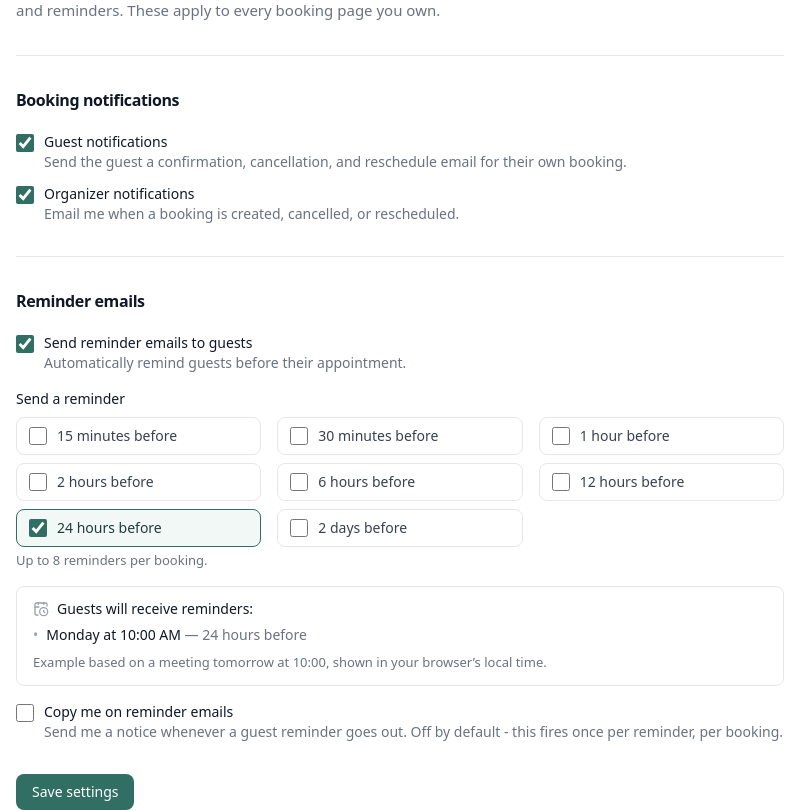
Test case: NotificationSettingsPage › reports a failed save instead of silently doing nothing
(page scrolled)
What coordinates should you click on to do the following:
click the button "Save settings"
I would click on:
 (75, 792)
Its box is x1=16 y1=774 x2=134 y2=809.
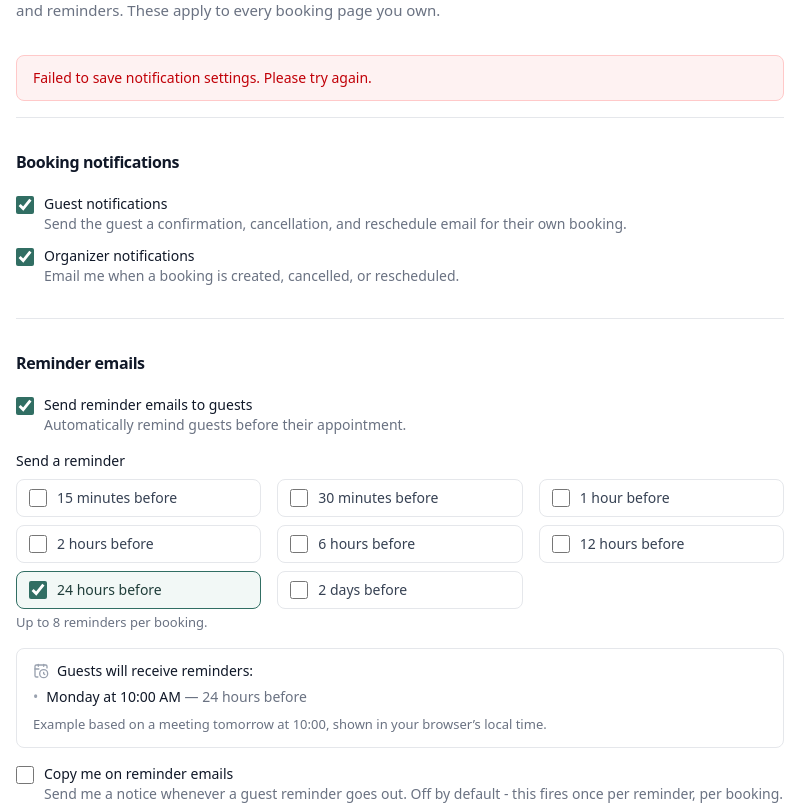
Expected: the text "Failed to save notification settings. Please try again." is shown, x1=16 y1=55 x2=784 y2=101
